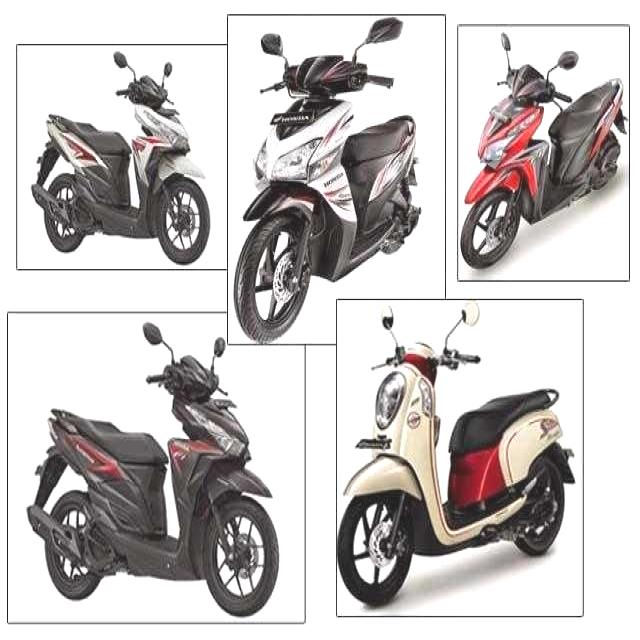Cycle: (23, 324, 280, 617), (337, 310, 577, 608), (230, 14, 430, 343), (27, 48, 211, 270), (463, 33, 627, 271)
